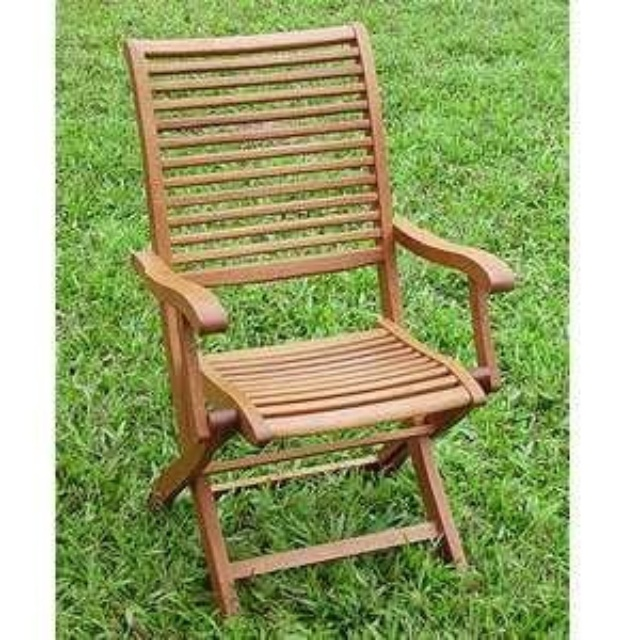obstacle: (126, 23, 512, 612)
